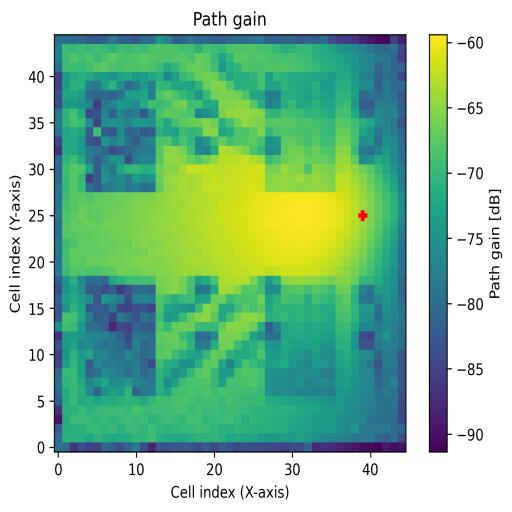Concrete: (264, 72, 336, 192)
Glass: (85, 72, 156, 192)
Metal: (265, 277, 335, 395)
Wood: (78, 275, 157, 397)
